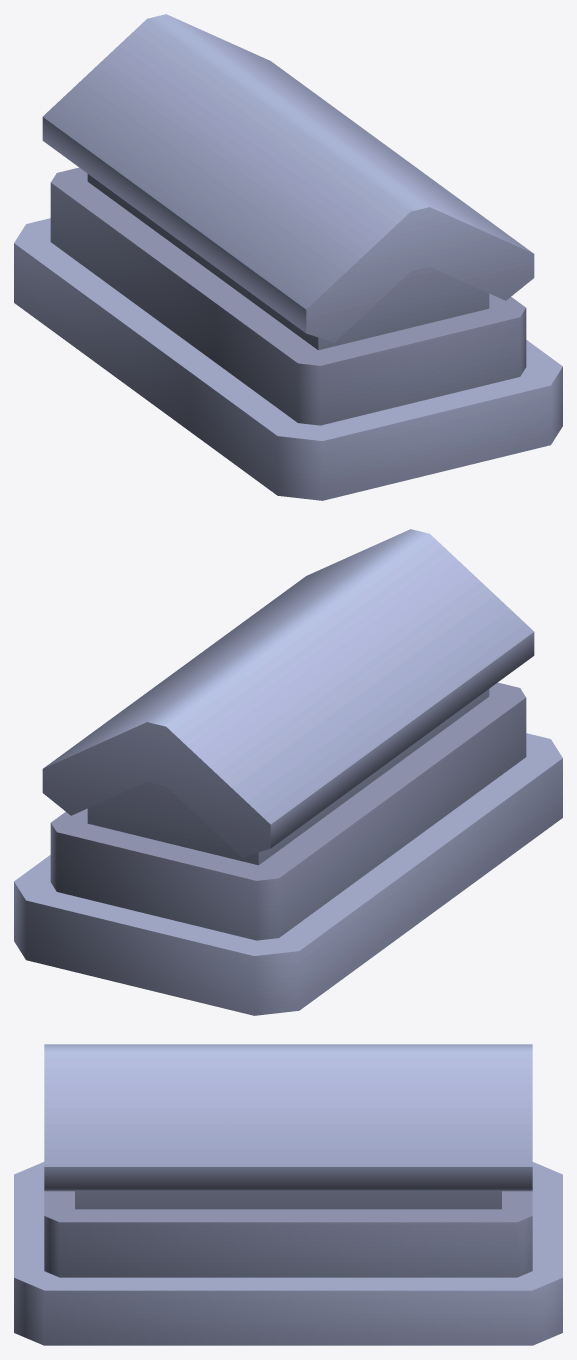
Rendered from crypt-a.glb.
3 views of the same model, one above another, from view 1: azimuth 30°, elevation 25°; view 2: azimuth 150°, elevation 25°; view 3: azimuth 270°, elevation 25° (orthographic). The views are drawn at different scales.
Parts seen in each view (by area): view 1: crypt-a; view 2: crypt-a; view 3: crypt-a.
Part boxes in pixels (left/top/right/bottom): crypt-a: left=14, top=14, right=562, bottom=500; crypt-a: left=14, top=529, right=562, bottom=1015; crypt-a: left=14, top=1044, right=562, bottom=1345.
Bounding box in the file's own units: 0.6201 × 0.5224 × 1.12.
1 material, 1 textured.
